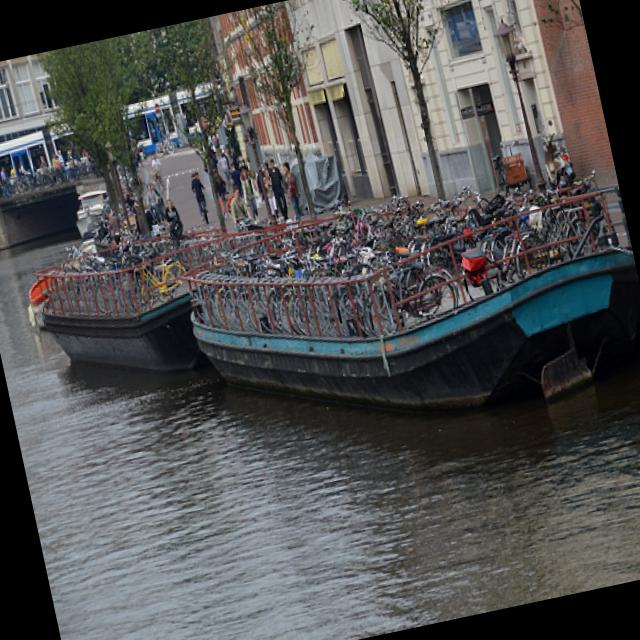Vehicle: (536, 116, 578, 190)
